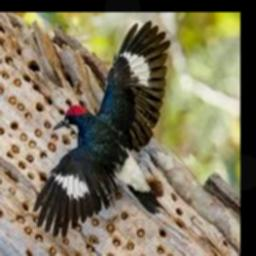Woodpecker: (33, 21, 170, 237)
